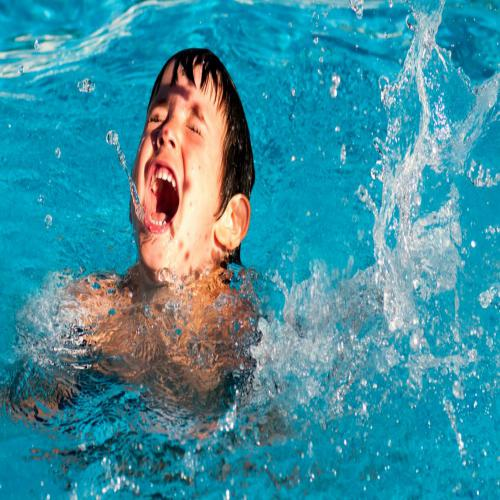drowning: (3, 13, 456, 425)
